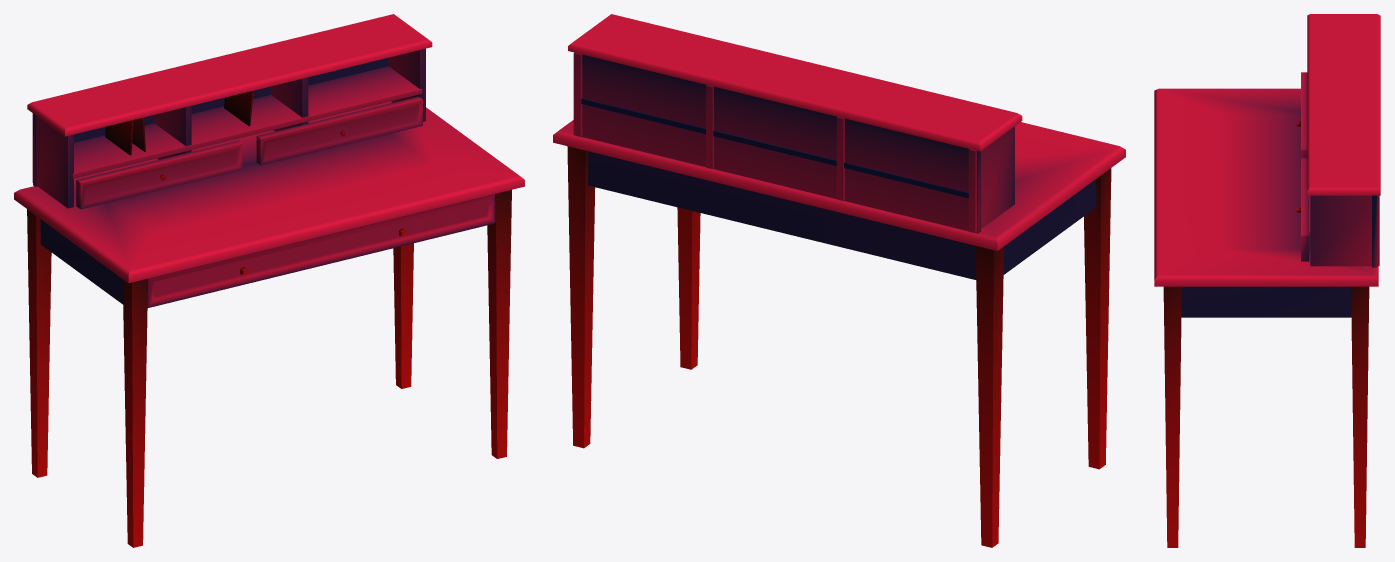
File: CI_Office_Desk_Writing.glb
The picture shows the model from 3 angles, left to right: view 1: azimuth 30°, elevation 25°; view 2: azimuth 150°, elevation 25°; view 3: azimuth 270°, elevation 25°; orthographic projection. The views are drawn at different scales.
Visible parts, largest first — view 1: CI_Office_Desk_Writing; view 2: CI_Office_Desk_Writing; view 3: CI_Office_Desk_Writing.
Boxes of the visible parts, bbox=[...] form: CI_Office_Desk_Writing: bbox=[14, 14, 524, 547]; CI_Office_Desk_Writing: bbox=[553, 14, 1125, 547]; CI_Office_Desk_Writing: bbox=[1154, 14, 1380, 547].
Size of the model in its own units: 1.1 by 0.97 by 0.555.
